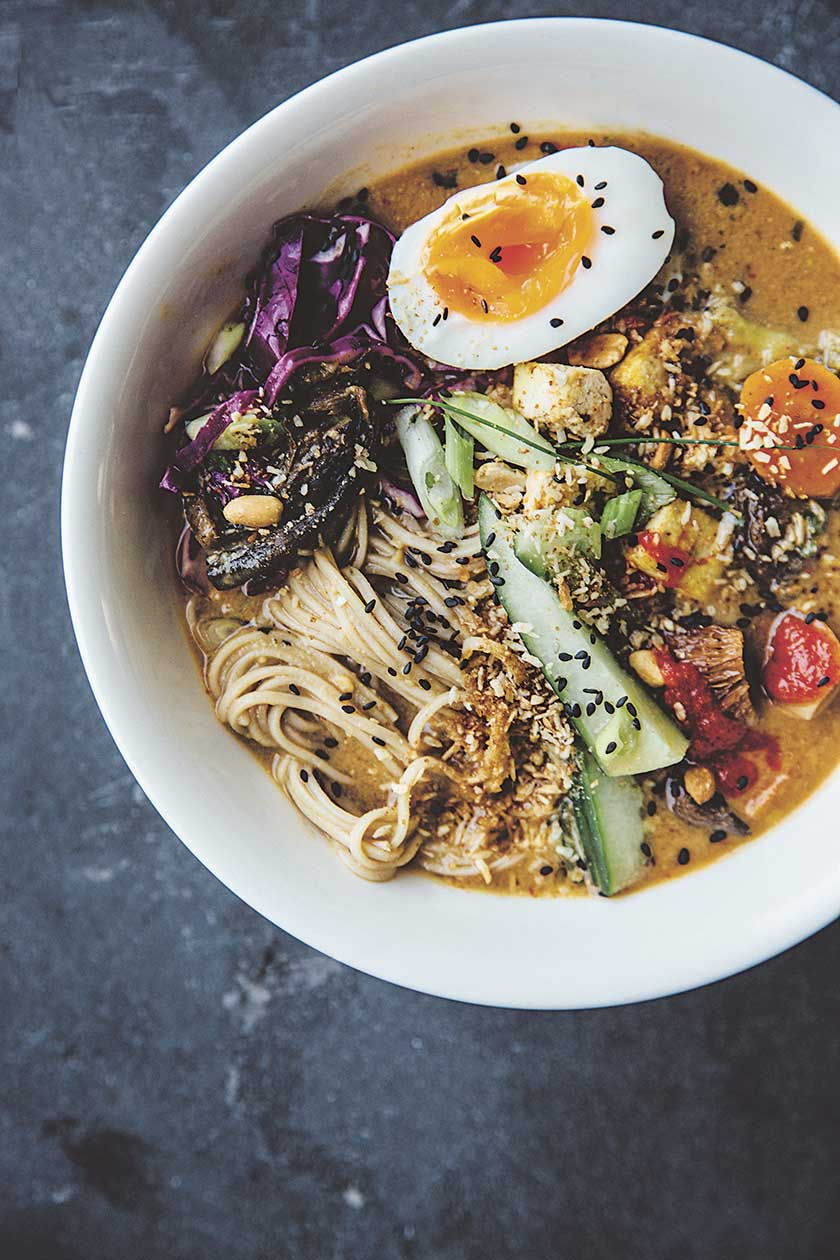Soba: (171, 447, 653, 945)
